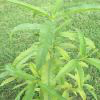Peach leaf: (33, 21, 56, 73), (3, 0, 53, 21), (10, 43, 38, 72), (49, 59, 79, 85), (6, 22, 44, 42), (55, 3, 99, 18), (37, 82, 71, 100), (43, 56, 57, 99), (4, 64, 35, 82), (76, 27, 86, 59), (74, 65, 86, 90)
